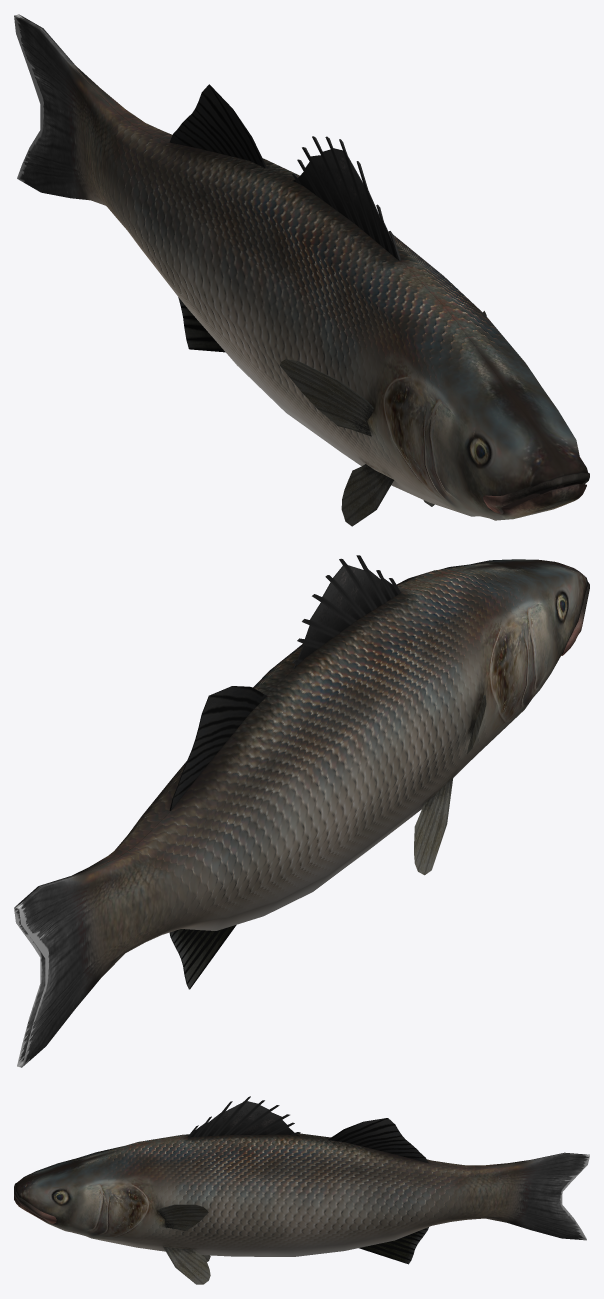
The model's file is Seabass.fbx.
3 views of the same model, one above another, from view 1: azimuth 30°, elevation 25°; view 2: azimuth 150°, elevation 25°; view 3: azimuth 270°, elevation 25° (orthographic). The views are drawn at different scales.
Parts seen in each view (by area): view 1: Seabass:polySurface102; view 2: Seabass:polySurface102; view 3: Seabass:polySurface102.
Boxes of the visible parts, x1,y1,x2,y2 form: Seabass:polySurface102: (14, 14, 589, 526); Seabass:polySurface102: (14, 555, 589, 1067); Seabass:polySurface102: (14, 1096, 589, 1284).
Size of the model in its own units: 5.86 by 9.45 by 27.72.
1 material, 1 textured.
